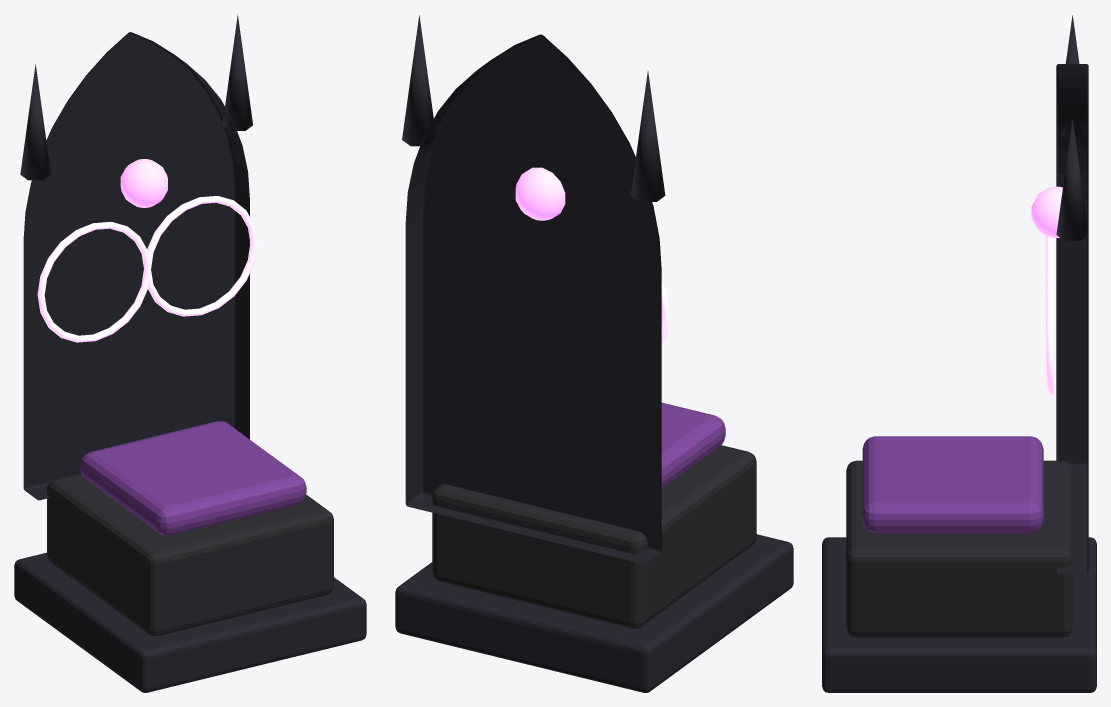
The model's file is throne_lich_throne.glb.
The picture shows the model from 3 angles, left to right: view 1: azimuth 30°, elevation 25°; view 2: azimuth 150°, elevation 25°; view 3: azimuth 270°, elevation 25°; orthographic projection. The views are drawn at different scales.
Visible parts, largest first — view 1: GD_throne_lich_throne__m0, GD_throne_lich_throne__m1, GD_throne_lich_throne__m2, GD_throne_lich_throne__m3, GD_throne_lich_throne__m4; view 2: GD_throne_lich_throne__m0, GD_throne_lich_throne__m1, GD_throne_lich_throne__m2, GD_throne_lich_throne__m4; view 3: GD_throne_lich_throne__m0, GD_throne_lich_throne__m1, GD_throne_lich_throne__m2, GD_throne_lich_throne__m3, GD_throne_lich_throne__m4.
Boxes of the visible parts, x1,y1,x2,y2 form: GD_throne_lich_throne__m0: (14, 14, 366, 692); GD_throne_lich_throne__m1: (47, 473, 333, 636); GD_throne_lich_throne__m2: (80, 421, 306, 535); GD_throne_lich_throne__m3: (37, 196, 257, 342); GD_throne_lich_throne__m4: (120, 159, 167, 207); GD_throne_lich_throne__m0: (395, 15, 793, 692); GD_throne_lich_throne__m1: (432, 445, 756, 628); GD_throne_lich_throne__m2: (661, 402, 725, 488); GD_throne_lich_throne__m4: (515, 167, 565, 220); GD_throne_lich_throne__m0: (822, 15, 1096, 692); GD_throne_lich_throne__m1: (846, 460, 1072, 637); GD_throne_lich_throne__m2: (862, 436, 1043, 533); GD_throne_lich_throne__m3: (1046, 235, 1053, 395); GD_throne_lich_throne__m4: (1031, 186, 1062, 237).
Bounding box in the file's own units: 0.85 × 1.96 × 0.85.
